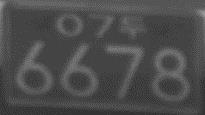0: (55, 12, 83, 37)
6: (15, 38, 54, 97), (59, 42, 98, 99)
7: (103, 43, 146, 100), (88, 12, 115, 39)
8: (150, 45, 191, 103)
두: (118, 13, 146, 39)
